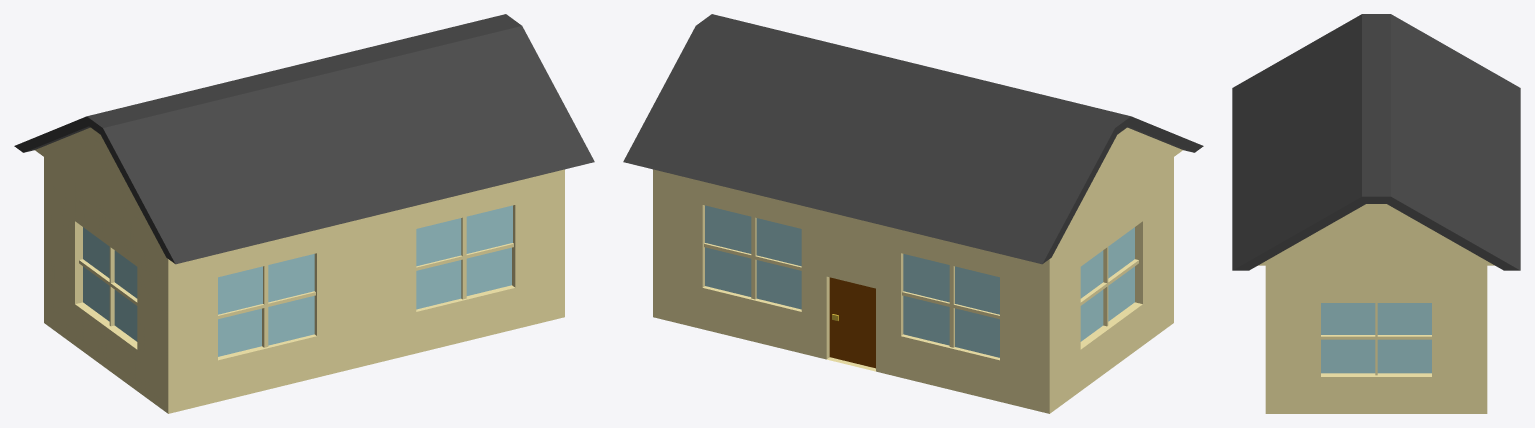
File: House.gltf
3 views of the same model, side by side, from view 1: azimuth 30°, elevation 25°; view 2: azimuth 150°, elevation 25°; view 3: azimuth 270°, elevation 25° (orthographic). The views are drawn at different scales.
Parts seen in each view (by area): view 1: Rectangle; view 2: Rectangle; view 3: Rectangle.
Boxes of the visible parts, x1,y1,x2,y2 form: Rectangle: (14, 14, 594, 413); Rectangle: (623, 14, 1203, 413); Rectangle: (1232, 14, 1520, 413).
Size of the model in its own units: 18.5 by 10.5 by 12.35.
